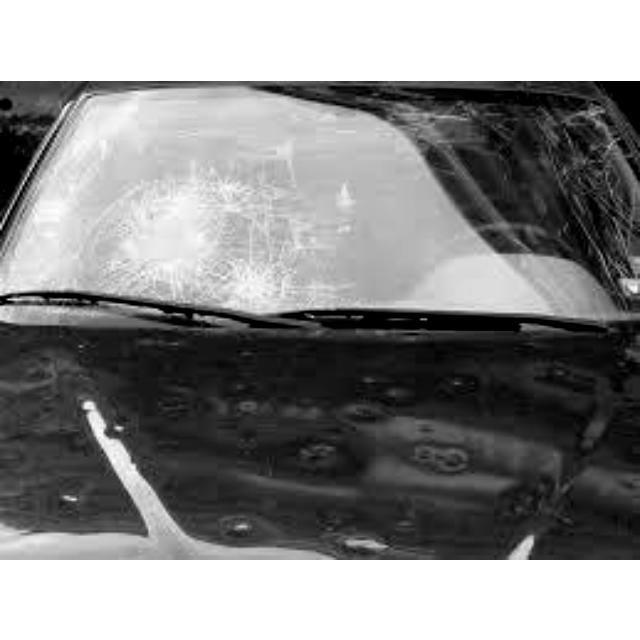Front-windscreen-damage: (62, 106, 620, 303)
bonnet-dent: (18, 342, 598, 547)
